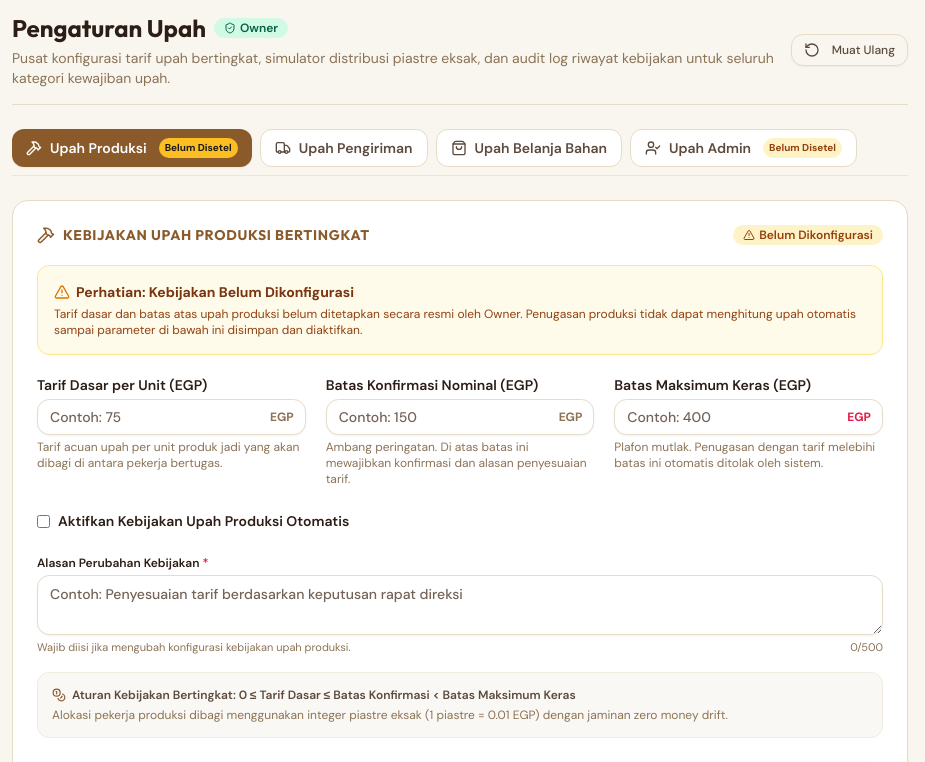
AdminWageSettings - Centralized Multi-Category Wage Settings UI › 2. Tab switching navigates cleanly between categories
The image size is (925, 762).
Click the button "Upah Pengiriman" at (344, 148), box [260,129,428,167]
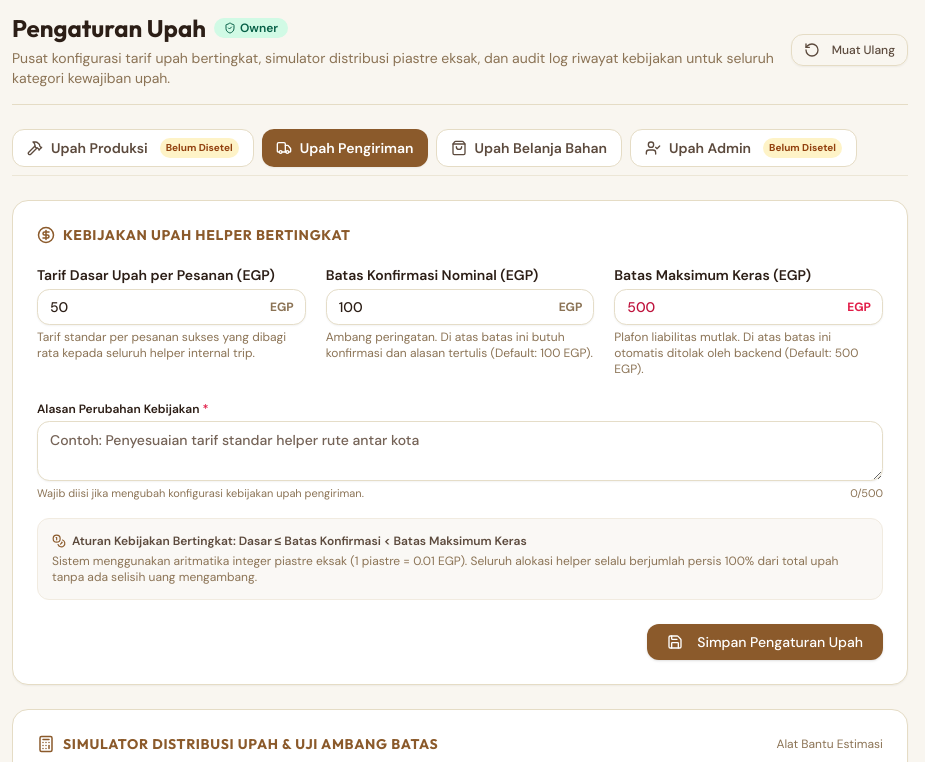
expect the text "Batas Konfirmasi Nominal (EGP)" is shown: met, box [326,266,538,284]
expect the text "Tarif Dasar Upah per Pesanan (EGP)" is shown: met, box [37,265,306,285]
Click the button "Upah Belanja Bahan" at (529, 148), box [436,129,622,167]
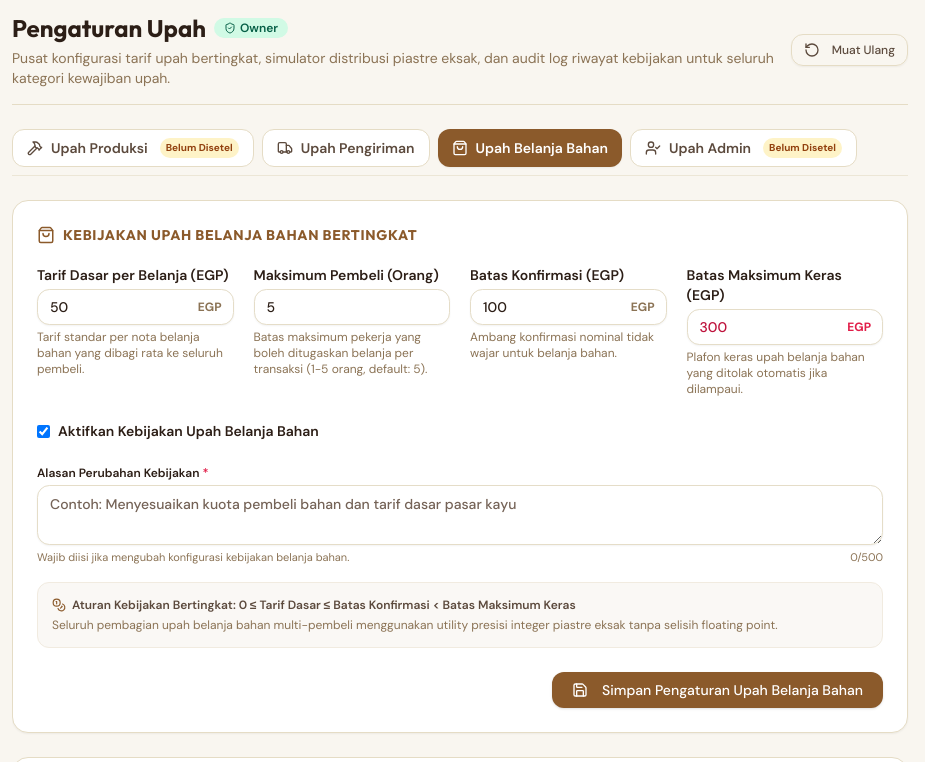
expect the text "Tarif Dasar per Belanja (EGP)" is shown: met, box [37,265,234,285]
expect the text "Maksimum Pembeli (Orang)" is shown: met, box [254,265,450,285]
Click the button "Upah Admin Belum Disetel" at (744, 148), box [630,129,857,167]
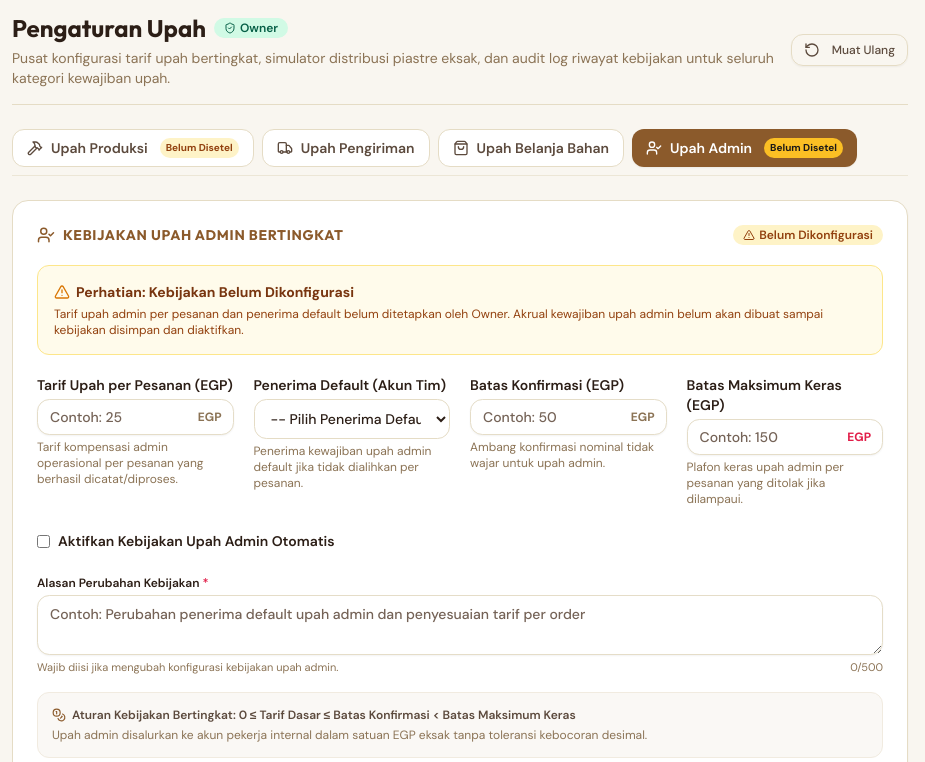
expect the text "Tarif Upah per Pesanan (EGP)" is shown: met, box [37,375,234,395]
expect the text "Penerima Default (Akun Tim)" is shown: met, box [254,375,450,395]
